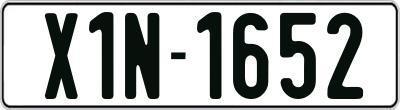1: (86, 10, 115, 98), (196, 11, 222, 98)
2: (326, 12, 368, 100)
5: (277, 13, 318, 105)
6: (230, 10, 267, 96)
N: (122, 11, 161, 99)
X: (45, 12, 80, 103)
